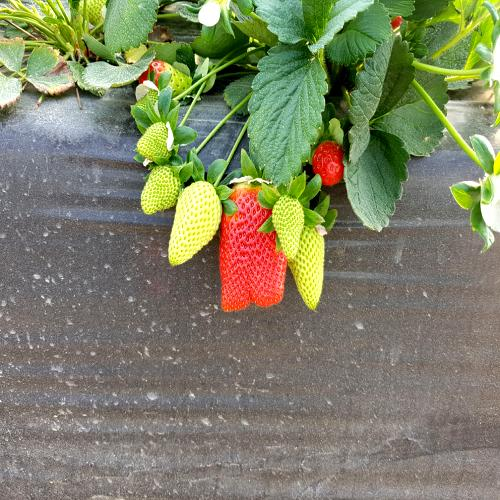ripe: (212, 164, 290, 320)
